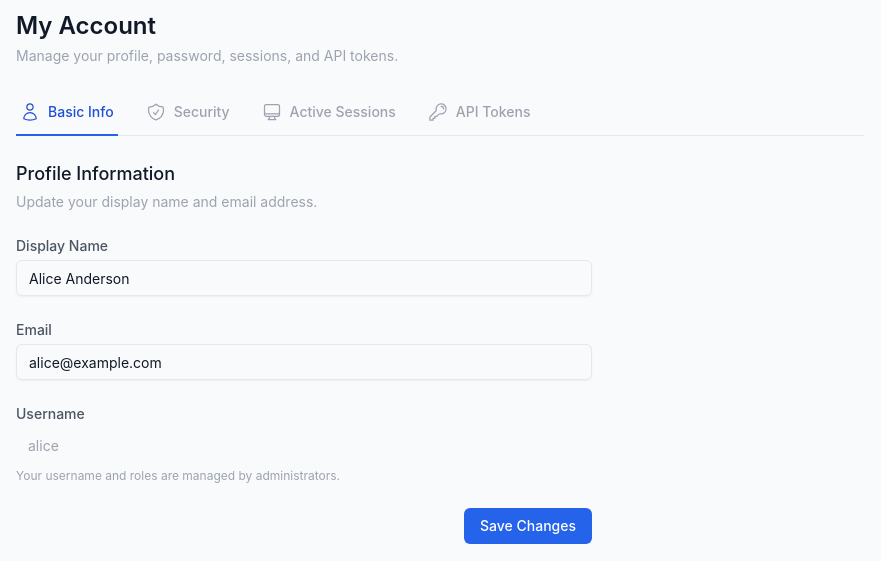
ProfilePage — Active Sessions tab › shows a loading spinner while sessions load
Click the button "Active Sessions": [329, 113] box left=258, top=90, right=400, bottom=136
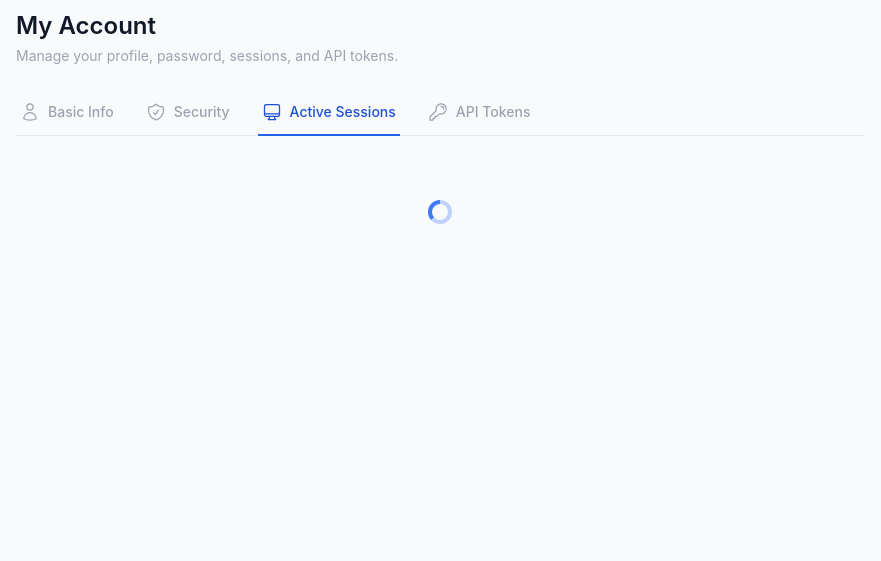
Check: the icon with class "animate-spin" is shown, box left=428, top=200, right=452, bottom=224
